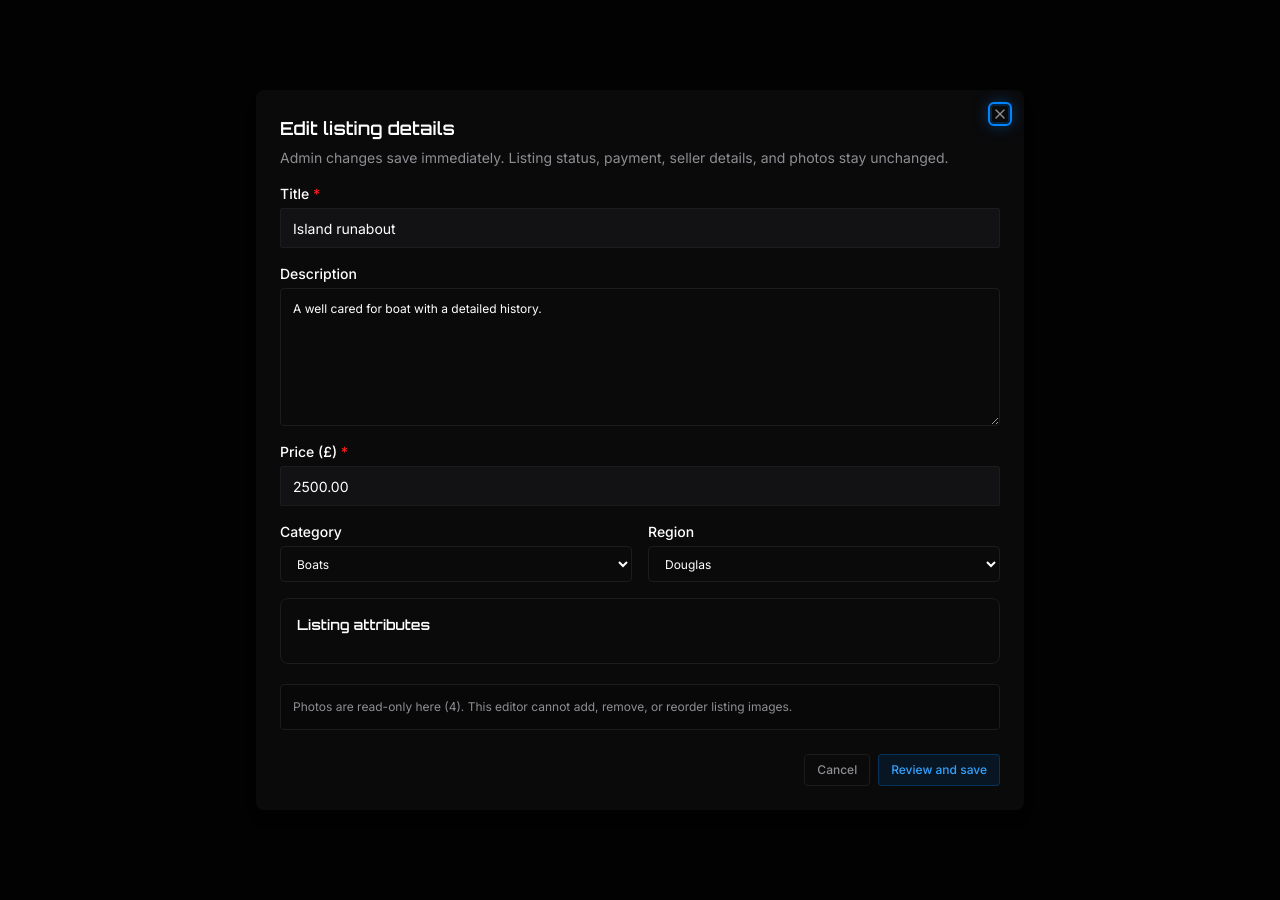
Test: ListingEditDialog › loads fresh details and makes the public effect and photo boundary explicit
The image size is (1280, 900).
Check: the field showing "Island runabout" is shown, box [280,208,1000,248]
Check: the text "Photos are read-only here (4)" is shown, box [280,684,1000,730]
Click the button "Review and save": (939, 770) [878,754,1000,786]
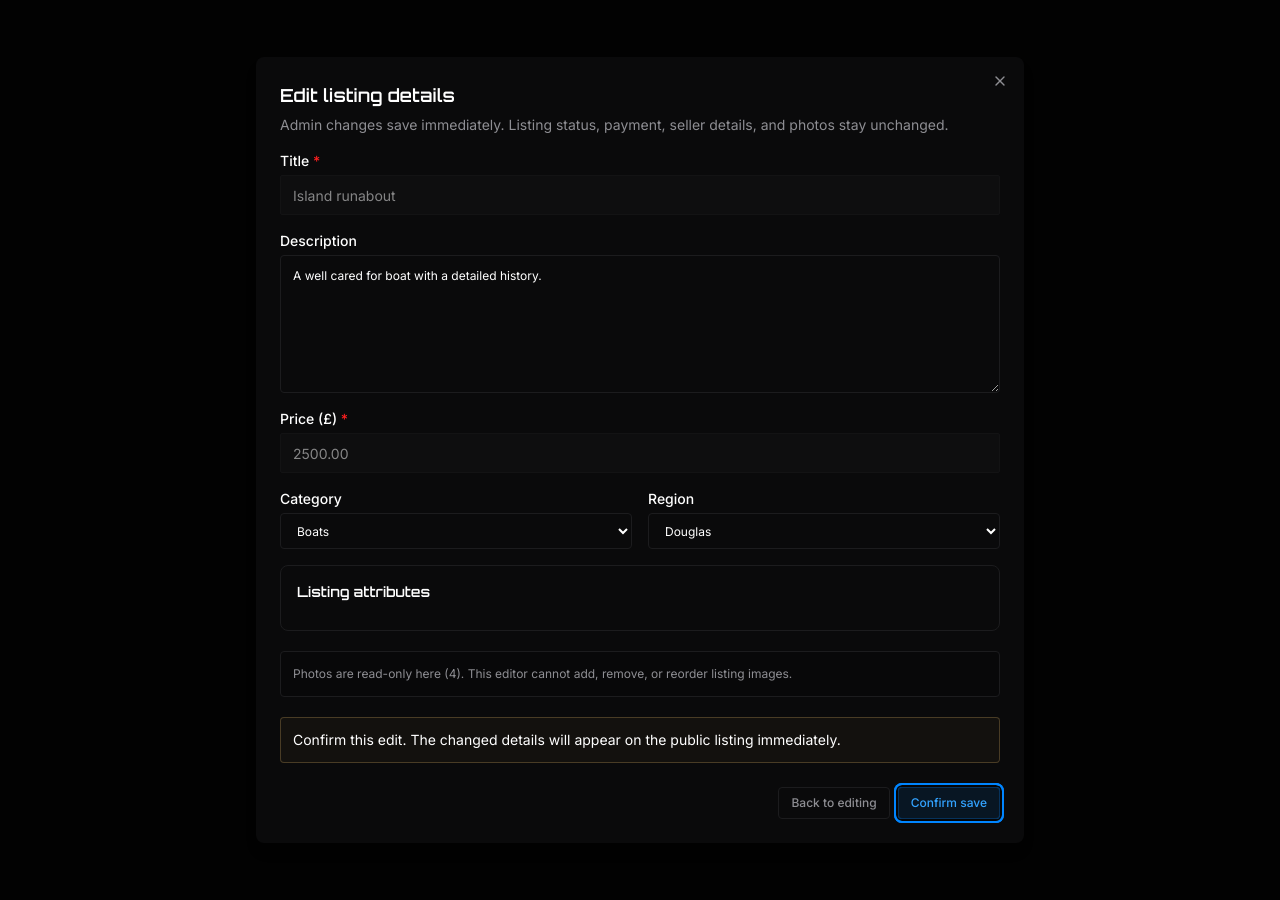
Check: the text "changed details will appear on the public listing immediately" is shown, box [293,731,841,748]
